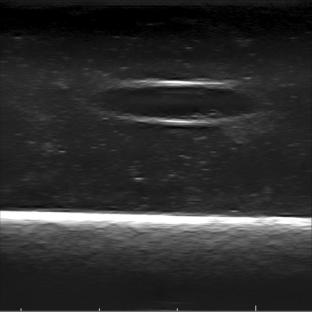vessel: (91, 80, 265, 126)
